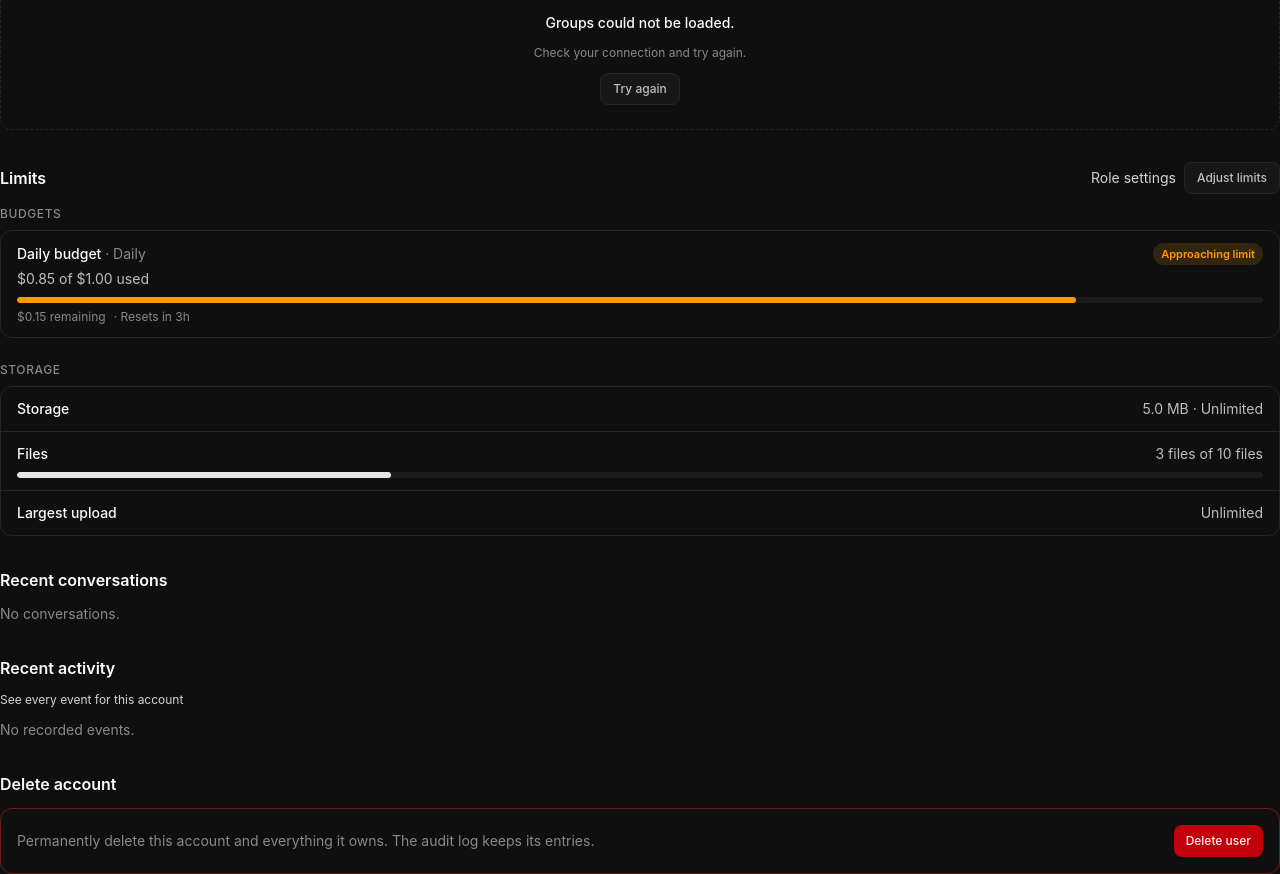
Test case: deleting an account › explains a legal hold and cannot be confirmed
The image size is (1280, 874).
(page scrolled)
Click the button "Delete user". click: {"x": 1218, "y": 841}
box: [1174,825,1263,857]
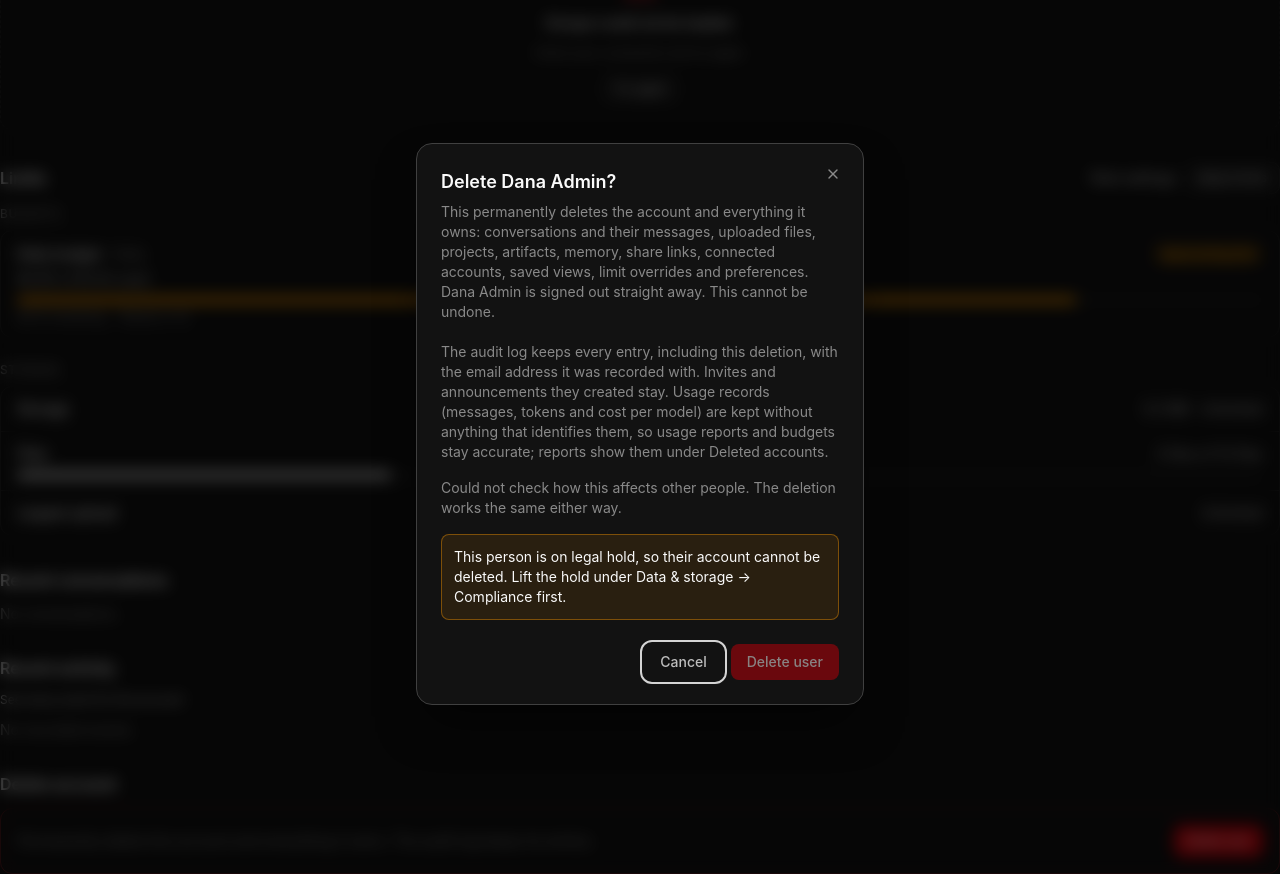
Result: the 1st button "Delete user" is disabled at [731,644,839,680]
